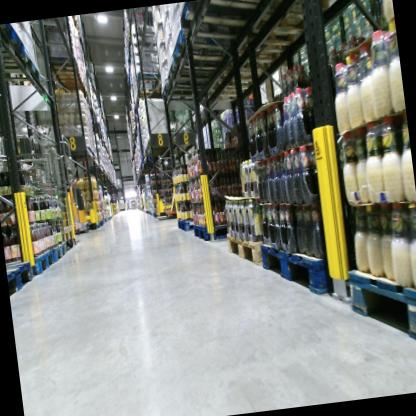pallet: (344, 254, 416, 356), (258, 233, 356, 306), (38, 144, 93, 239), (166, 20, 256, 71), (179, 0, 269, 33), (261, 0, 358, 29), (227, 37, 304, 72), (161, 56, 222, 95), (219, 226, 268, 274), (206, 73, 270, 106), (0, 49, 46, 92), (214, 54, 271, 88), (160, 75, 217, 107), (245, 16, 300, 49), (188, 217, 228, 250), (6, 256, 36, 296), (0, 22, 27, 64), (29, 249, 57, 277), (48, 51, 80, 71), (136, 68, 162, 86), (174, 215, 195, 236), (49, 15, 79, 29), (50, 241, 68, 264), (58, 224, 77, 241), (135, 84, 161, 96), (0, 112, 4, 126)
